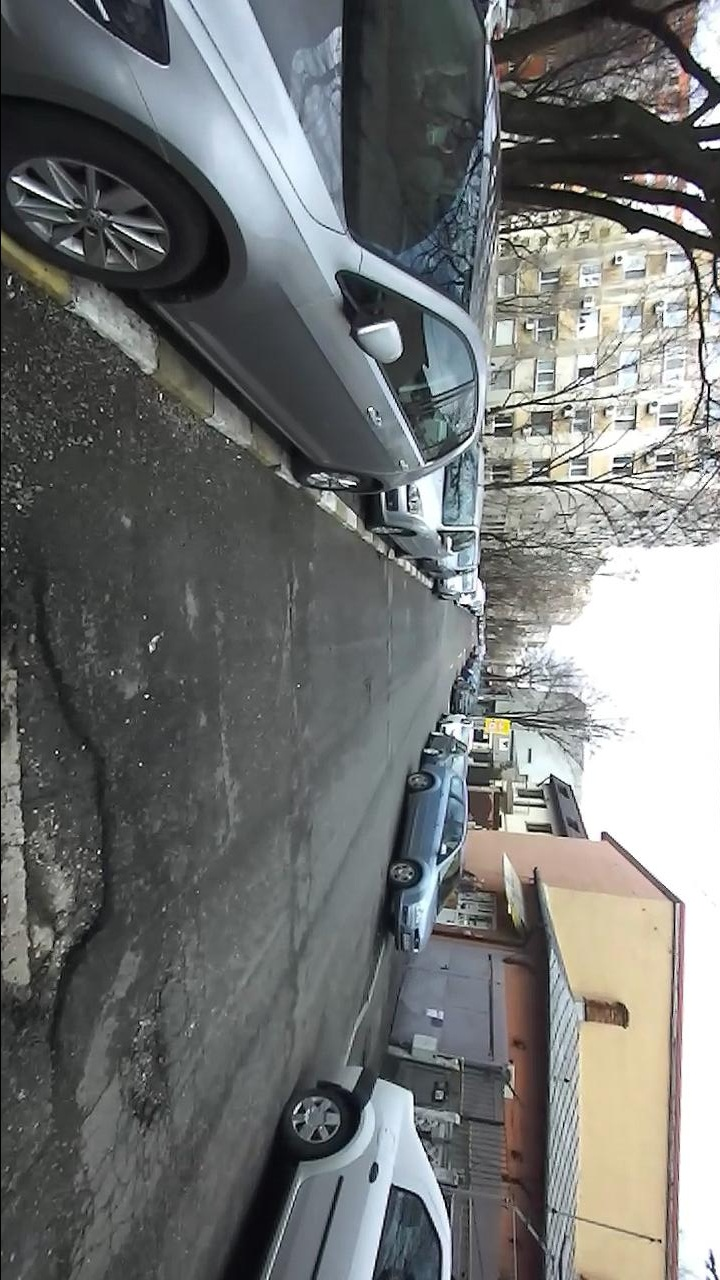pothole: (0, 558, 113, 1076), (115, 965, 178, 1139), (277, 564, 305, 653)
